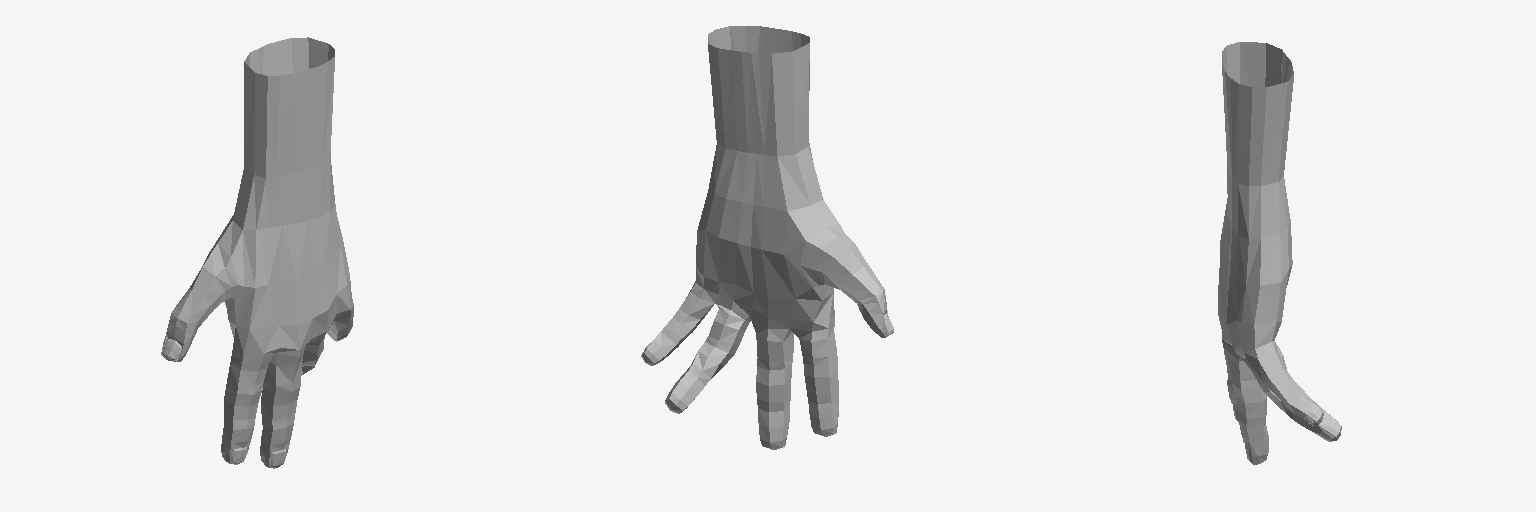
The model's file is handAnimated4_000007.obj.
The picture shows the model from 3 angles: view 1: azimuth 30°, elevation 25°; view 2: azimuth 150°, elevation 25°; view 3: azimuth 270°, elevation 25°; orthographic projection.
Visible parts, largest first — view 1: Cube.000_Cube.017_Detached_Detached; view 2: Cube.000_Cube.017_Detached_Detached; view 3: Cube.000_Cube.017_Detached_Detached.
Boxes of the visible parts, x1=… form: Cube.000_Cube.017_Detached_Detached: x1=161, y1=37, x2=353, y2=468; Cube.000_Cube.017_Detached_Detached: x1=641, y1=26, x2=893, y2=449; Cube.000_Cube.017_Detached_Detached: x1=1218, y1=42, x2=1341, y2=464.
Size of the model in its own units: 0.7471 by 1.34 by 0.3692.